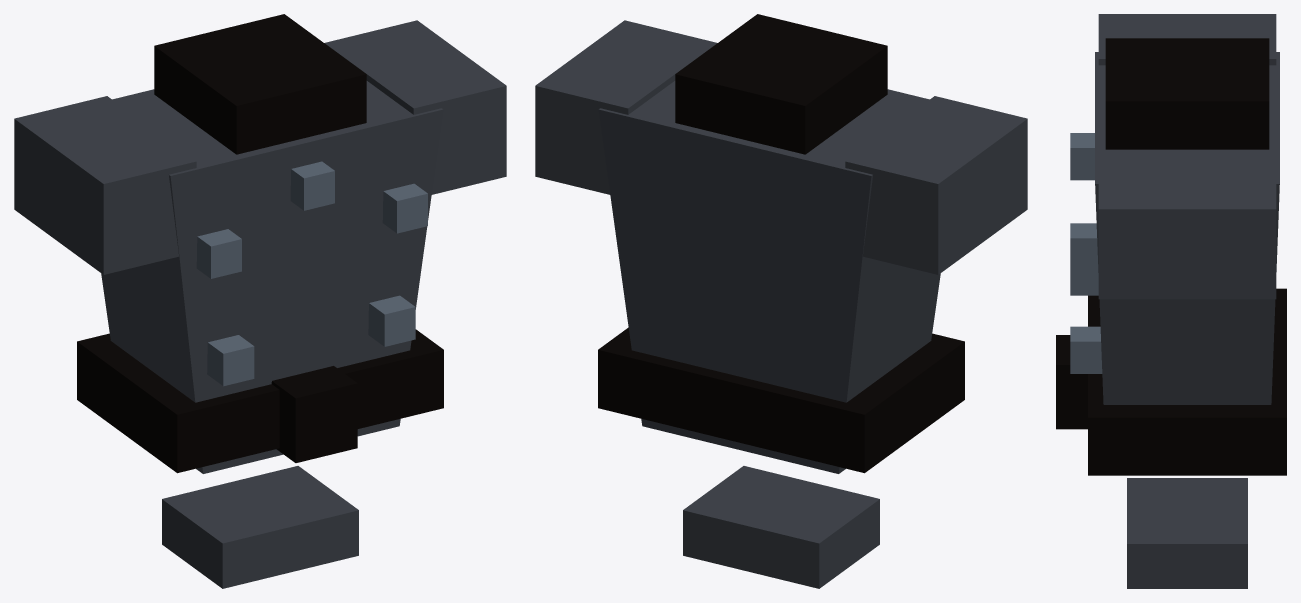
File: CorazaHierro_low.fbx
3 renders of one model, left to right at view 1: azimuth 30°, elevation 25°; view 2: azimuth 150°, elevation 25°; view 3: azimuth 270°, elevation 25°, orthographic.
Parts seen in each view (by area): view 1: CorazaHierro_low; view 2: CorazaHierro_low; view 3: CorazaHierro_low.
Part boxes in pixels (x1,y1,x2,y2): CorazaHierro_low: (14, 14, 506, 588); CorazaHierro_low: (535, 14, 1027, 588); CorazaHierro_low: (1056, 14, 1286, 588).
Bounding box in the file's own units: 65 × 75.5 × 32.5.
